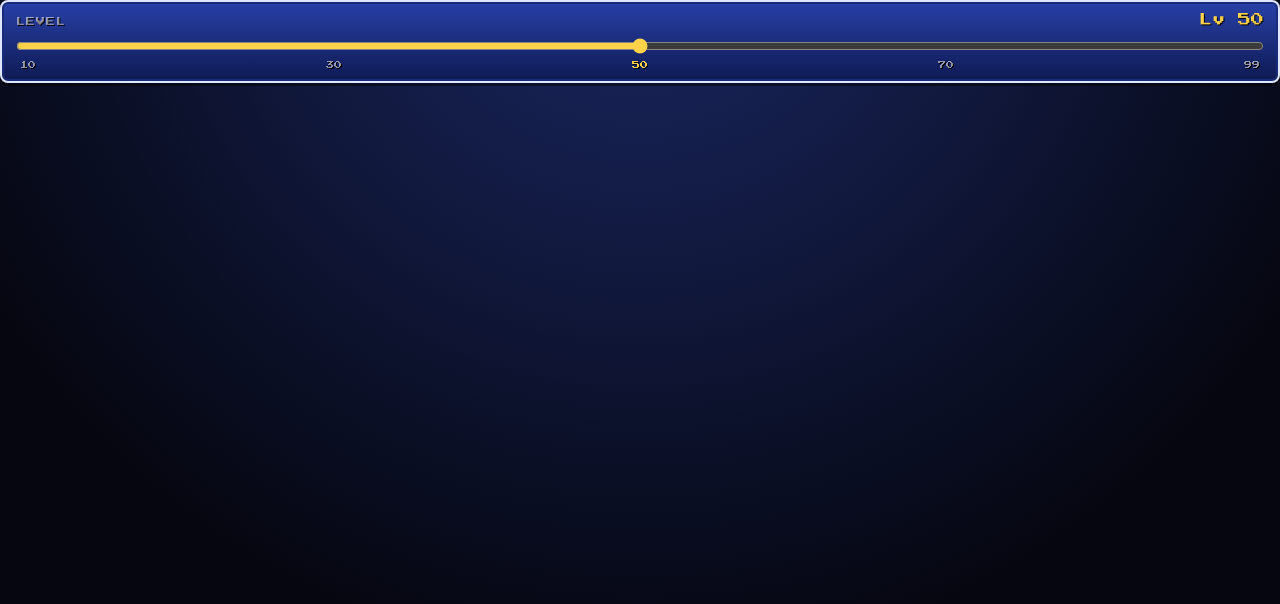
Test: LevelControl › jumps to a checkpoint when its tick is clicked
The image size is (1280, 604).
Click the button with class "tick" showing "99" at (1252,64), box [1240,58,1264,70]
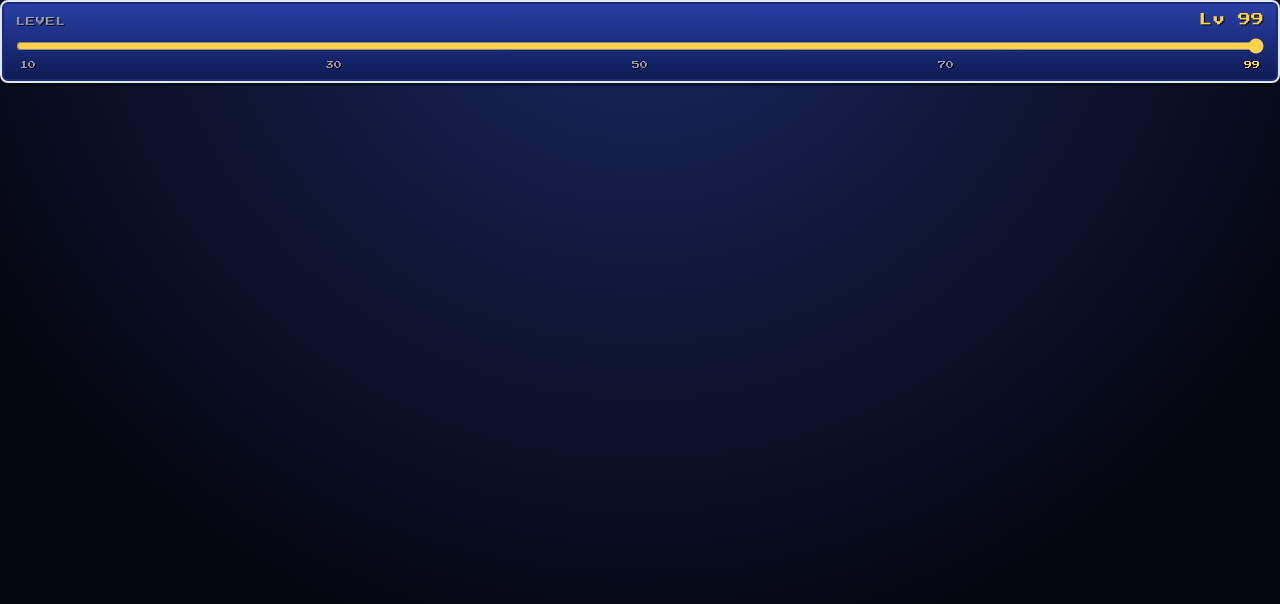
Now the text "Lv 99" is shown, box [1199,10,1264,30]
